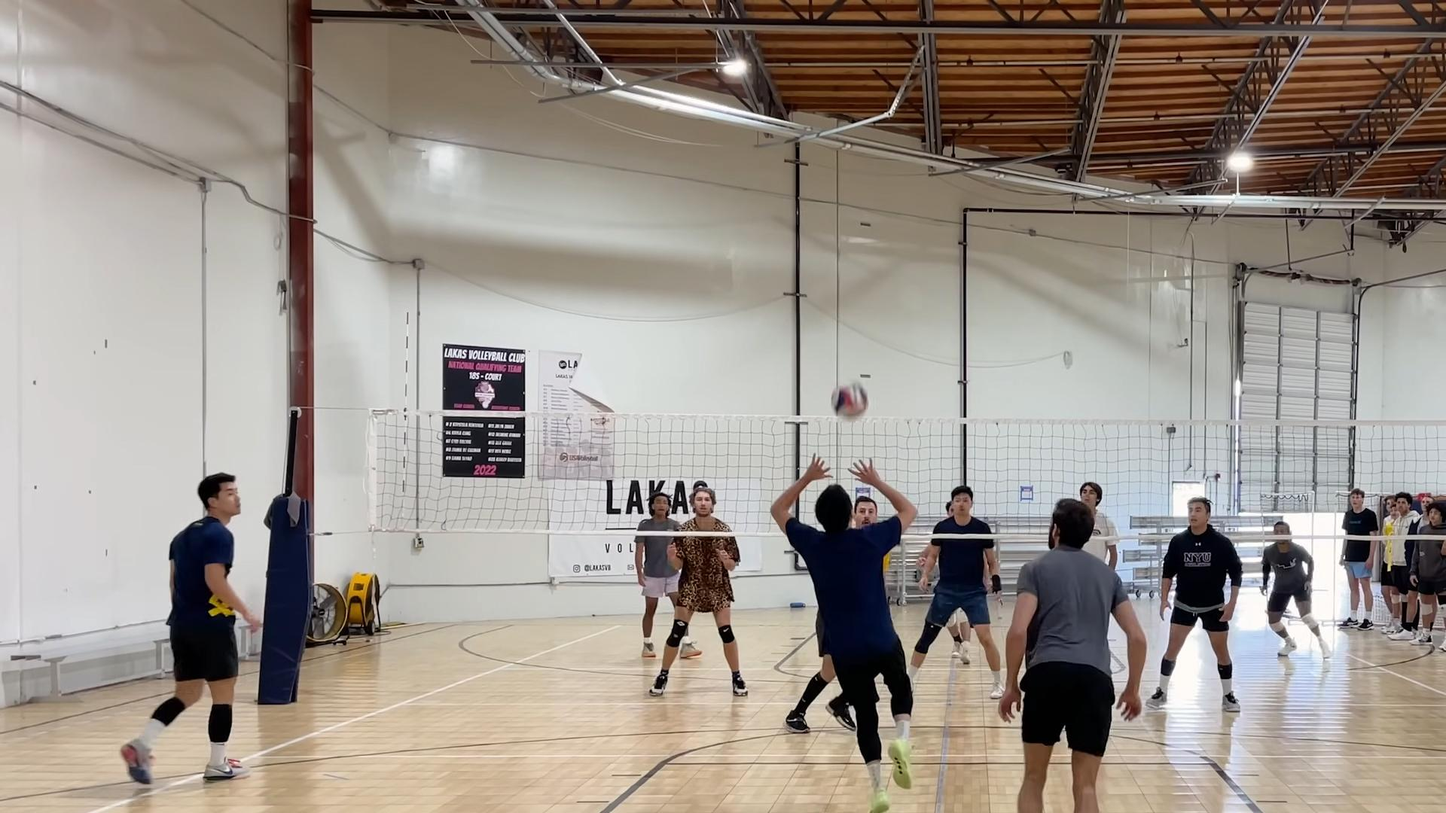alzata: (747, 461, 948, 813)
